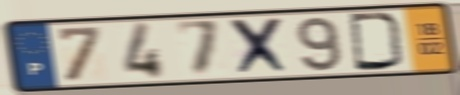4: (120, 19, 167, 83)
7: (172, 20, 223, 80), (56, 24, 106, 84)
9: (291, 16, 345, 73)
D: (346, 11, 408, 73)
X: (227, 15, 294, 78)
